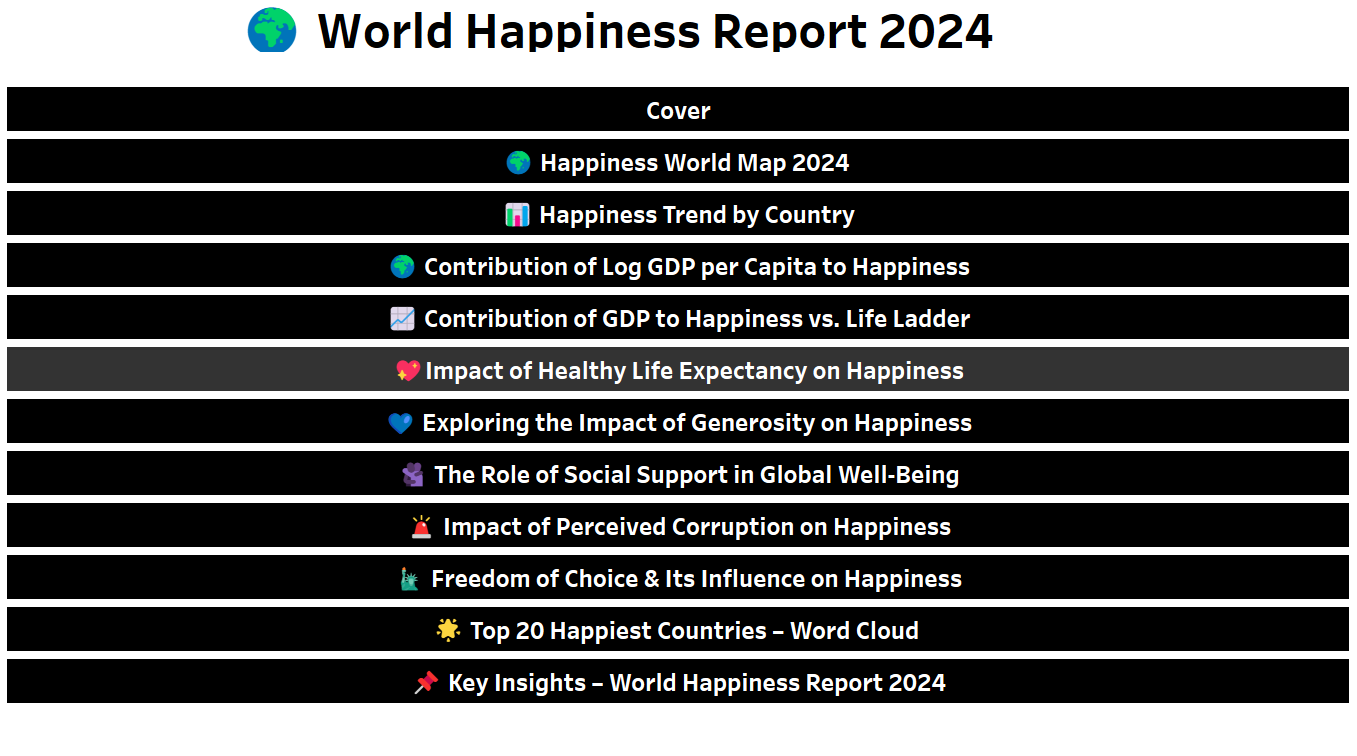

The dashboard page shown, as its layout file describes it:
{"tool":"tableau","page":{"name":"Menu","canvas":[1366,768],"ordinal":7},"visuals":[{"type":"blank","box":[8,8,1350,33]},{"type":"text","box":[61,10,1120,47]},{"type":"blank","box":[8,41,1350,47]},{"type":"dashboard-object","box":[8,88,1350,52]},{"type":"dashboard-object","box":[8,140,1350,52]},{"type":"dashboard-object","box":[8,192,1350,52]},{"type":"dashboard-object","box":[8,244,1350,52]},{"type":"dashboard-object","box":[8,296,1350,52]},{"type":"dashboard-object","box":[8,348,1350,52]},{"type":"dashboard-object","box":[8,400,1350,52]},{"type":"dashboard-object","box":[8,452,1350,52]},{"type":"dashboard-object","box":[8,504,1350,52]},{"type":"dashboard-object","box":[8,556,1350,52]},{"type":"dashboard-object","box":[8,608,1350,52]},{"type":"dashboard-object","box":[8,660,1350,52]}]}

Visuals, with their boxes in screenshot pixels (x1, y1, x2, y2), scaled from the page's 1366x768 canvas onto the 1357x756 screenshot:
blank: {"left": 8, "top": 8, "right": 1349, "bottom": 40}
text: {"left": 61, "top": 10, "right": 1173, "bottom": 56}
blank: {"left": 8, "top": 40, "right": 1349, "bottom": 87}
dashboard-object: {"left": 8, "top": 87, "right": 1349, "bottom": 138}
dashboard-object: {"left": 8, "top": 138, "right": 1349, "bottom": 189}
dashboard-object: {"left": 8, "top": 189, "right": 1349, "bottom": 240}
dashboard-object: {"left": 8, "top": 240, "right": 1349, "bottom": 291}
dashboard-object: {"left": 8, "top": 291, "right": 1349, "bottom": 343}
dashboard-object: {"left": 8, "top": 343, "right": 1349, "bottom": 394}
dashboard-object: {"left": 8, "top": 394, "right": 1349, "bottom": 445}
dashboard-object: {"left": 8, "top": 445, "right": 1349, "bottom": 496}
dashboard-object: {"left": 8, "top": 496, "right": 1349, "bottom": 547}
dashboard-object: {"left": 8, "top": 547, "right": 1349, "bottom": 598}
dashboard-object: {"left": 8, "top": 598, "right": 1349, "bottom": 650}
dashboard-object: {"left": 8, "top": 650, "right": 1349, "bottom": 701}
